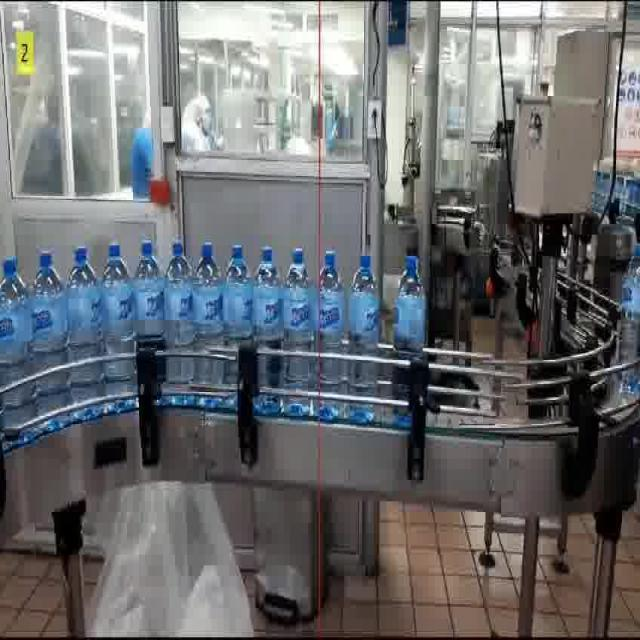bottle: (389, 253, 428, 426), (346, 254, 381, 424), (249, 246, 288, 396), (280, 246, 314, 418), (26, 249, 61, 412), (314, 248, 347, 420), (64, 244, 103, 389), (98, 241, 136, 384), (190, 239, 224, 396), (163, 239, 194, 393), (0, 257, 30, 413), (131, 237, 166, 347), (221, 242, 253, 348)
